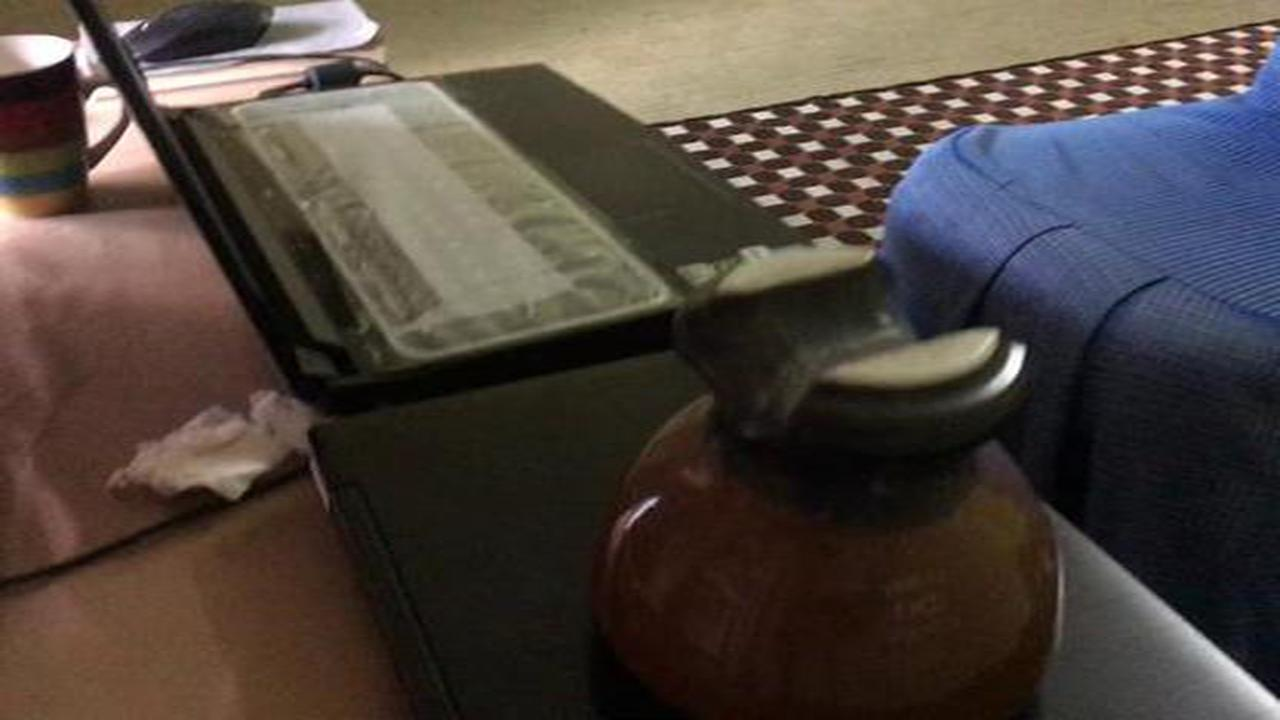insulator_pin: (588, 232, 1071, 719)
